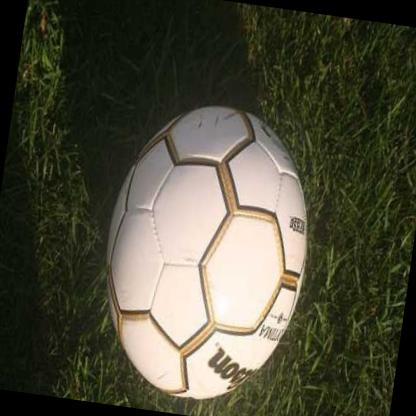ball: (87, 92, 326, 410)
